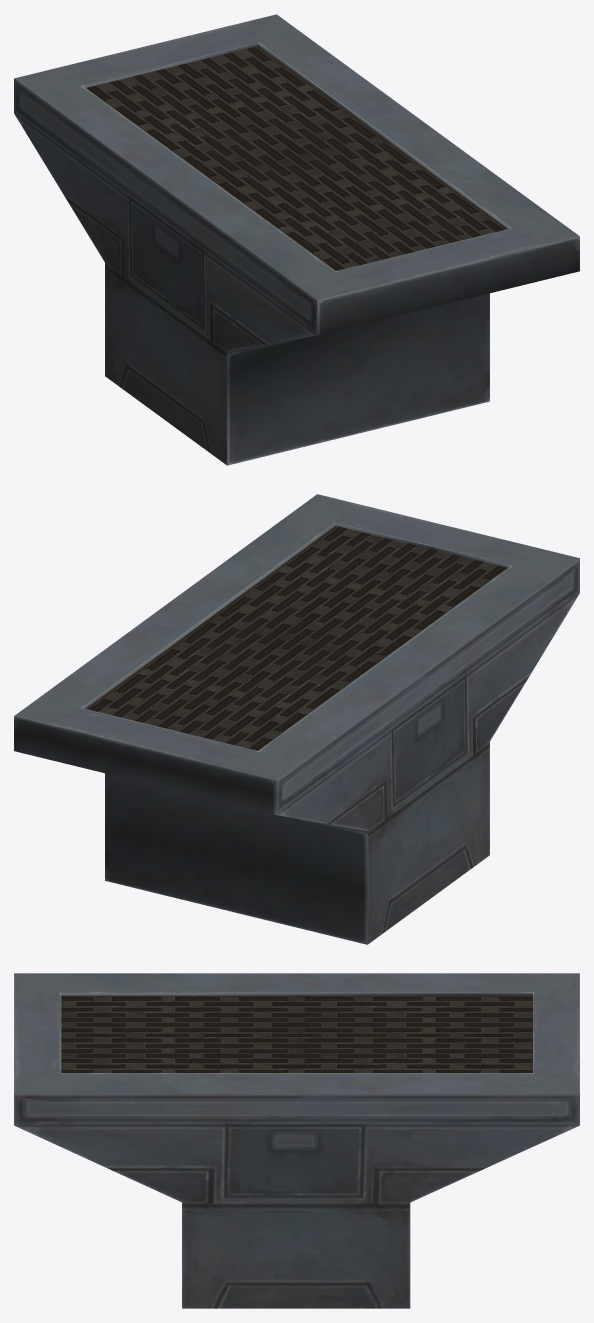
Rendered from all_item_imp_scaffold_gap.glb.
3 renders of one model, top to bottom at view 1: azimuth 30°, elevation 25°; view 2: azimuth 150°, elevation 25°; view 3: azimuth 270°, elevation 25°, orthographic. The views are drawn at different scales.
Visible parts, largest first — view 1: all_item_imp_scaffold_gap; view 2: all_item_imp_scaffold_gap; view 3: all_item_imp_scaffold_gap.
Part boxes in pixels (<box>): all_item_imp_scaffold_gap: <box>14,14,579,465</box>; all_item_imp_scaffold_gap: <box>14,494,579,944</box>; all_item_imp_scaffold_gap: <box>14,973,579,1308</box>.
Size of the model in its own units: 0.3 by 0.2524 by 0.6001.
Materials: 3 (3 with a texture image).
